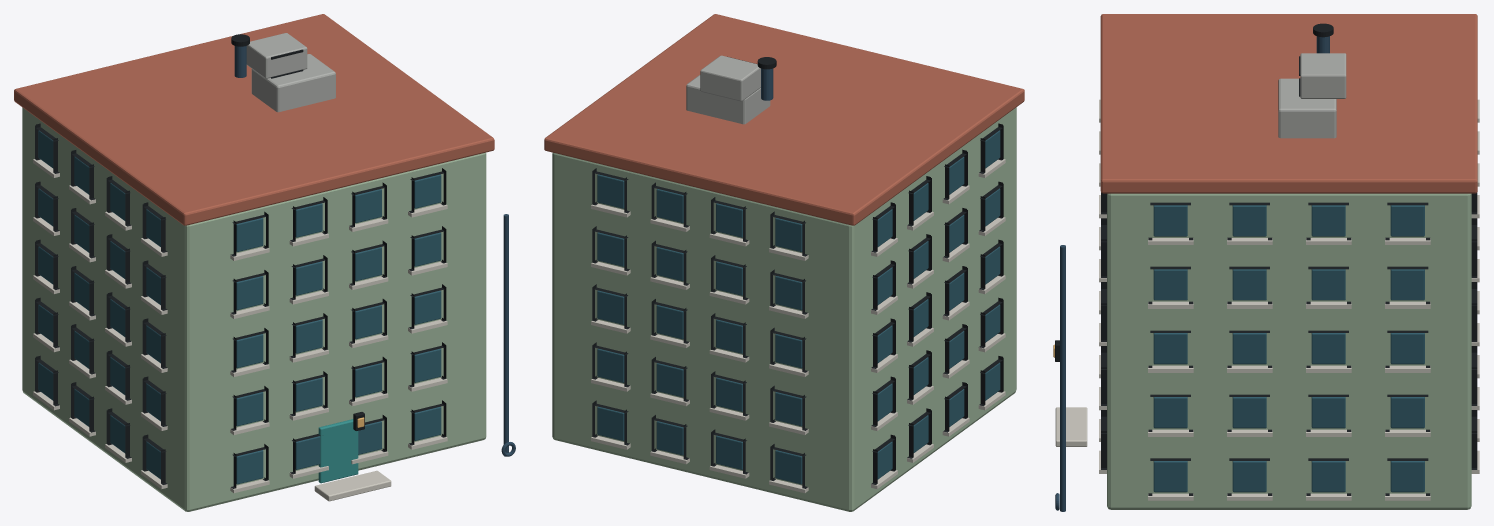
Rendered from RES_MID_2x2_002.glb.
The picture shows the model from 3 angles, left to right: view 1: azimuth 30°, elevation 25°; view 2: azimuth 150°, elevation 25°; view 3: azimuth 270°, elevation 25°; orthographic projection. The views are drawn at different scales.
Parts seen in each view (by area): view 1: RES_MID_2x2_002_Visual; view 2: RES_MID_2x2_002_Visual; view 3: RES_MID_2x2_002_Visual.
Boxes of the visible parts, x1=… form: RES_MID_2x2_002_Visual: x1=14, y1=14, x2=515, y2=511; RES_MID_2x2_002_Visual: x1=544, y1=14, x2=1024, y2=511; RES_MID_2x2_002_Visual: x1=1053, y1=14, x2=1479, y2=511.
Size of what is drawn, in the model's own units: 3.28 by 3.66 by 3.51.
